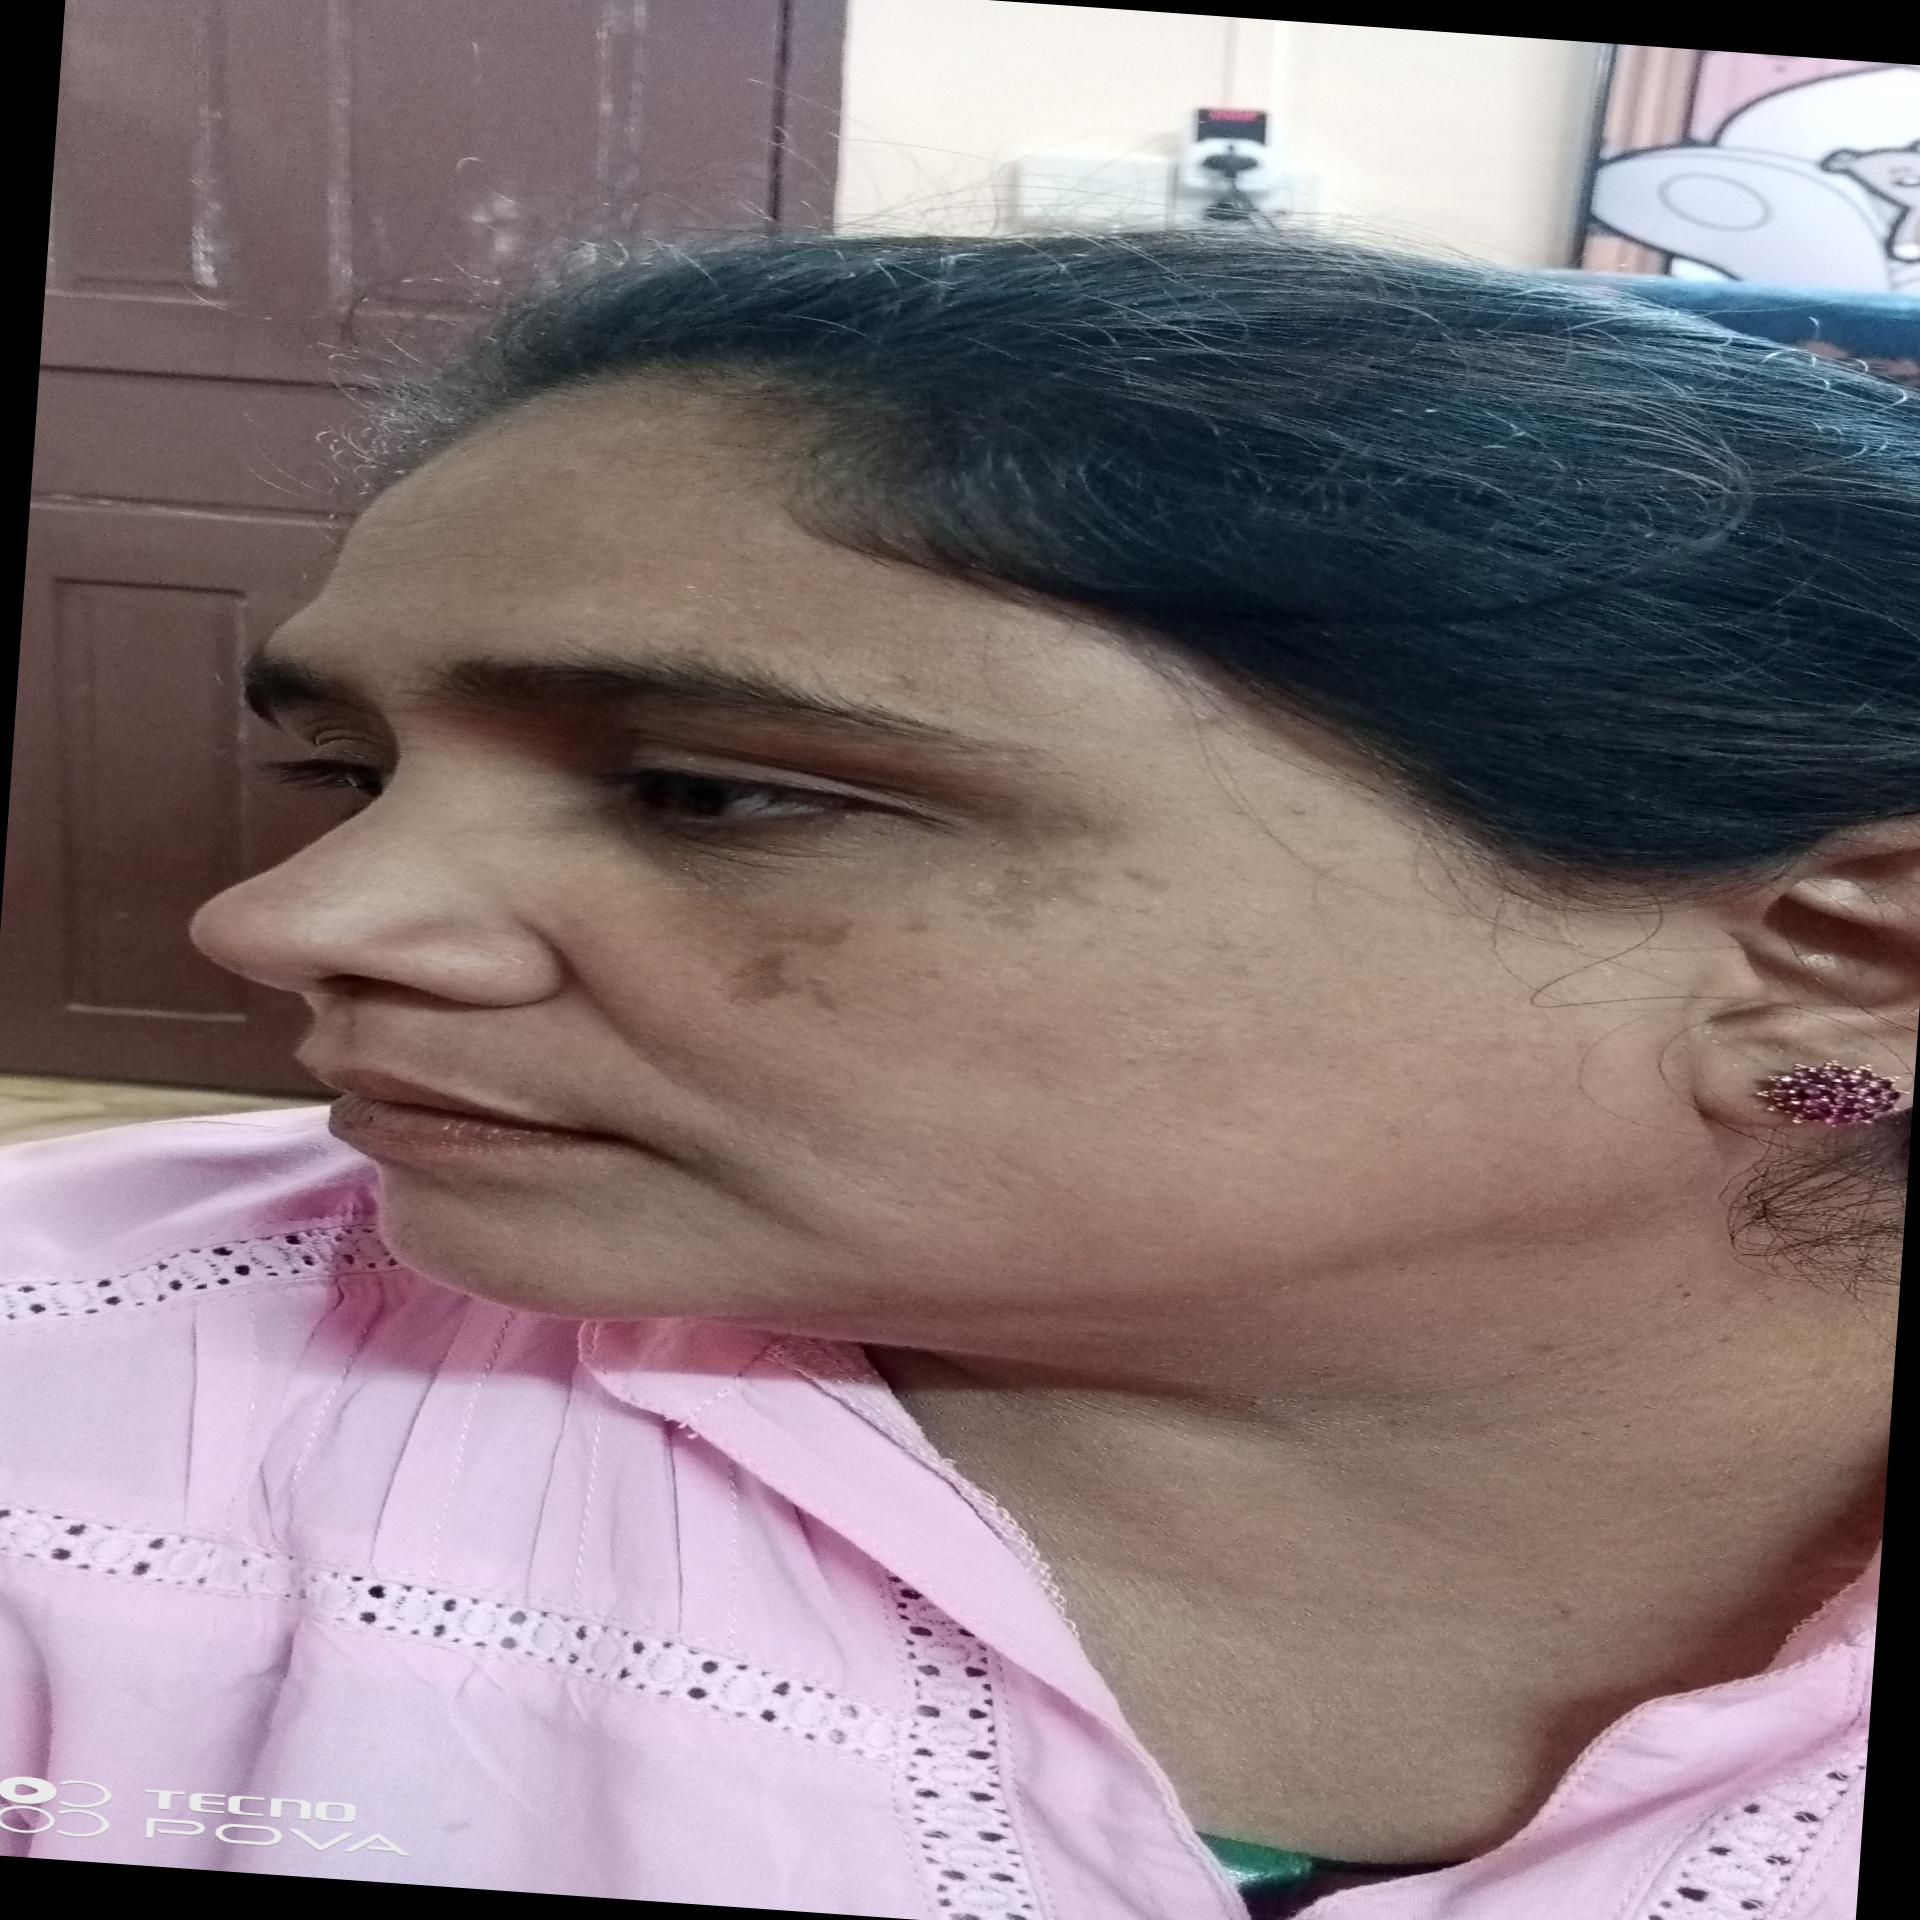Acne: (876, 663, 934, 696), (1169, 707, 1245, 730)
Wrinkles: (527, 946, 721, 1095), (610, 1138, 830, 1240), (325, 545, 489, 589), (353, 496, 492, 540)
